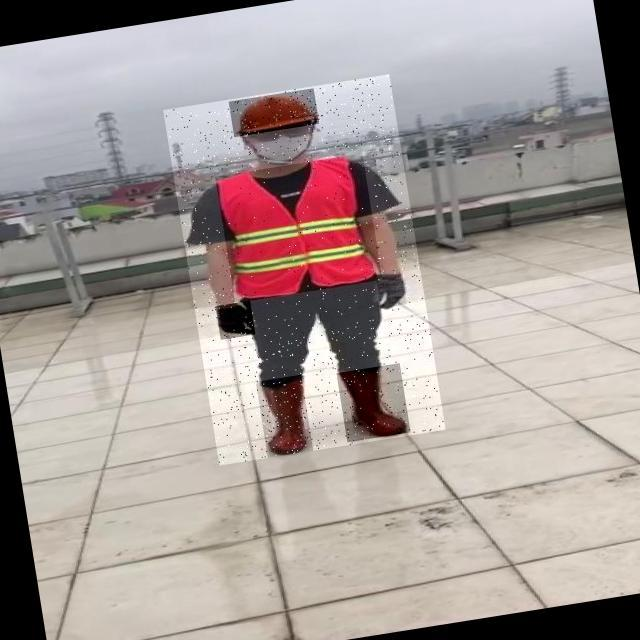Gloves: (216, 301, 256, 340), (376, 274, 407, 309)
Helmet: (229, 88, 320, 137)
Human: (164, 75, 446, 466)
Safety Boot: (337, 363, 411, 442), (256, 375, 313, 458)
Safety Vest: (216, 153, 384, 303)
